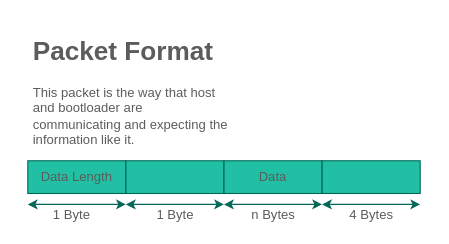
Image size: 449x244. Some labels were removed from this diagram. The shapes that lost their labels are listed below. From the top down, each one's centre as x and y in pixels, then its label:
At point (174, 176): "Command".
At point (370, 176): "CRC32".
